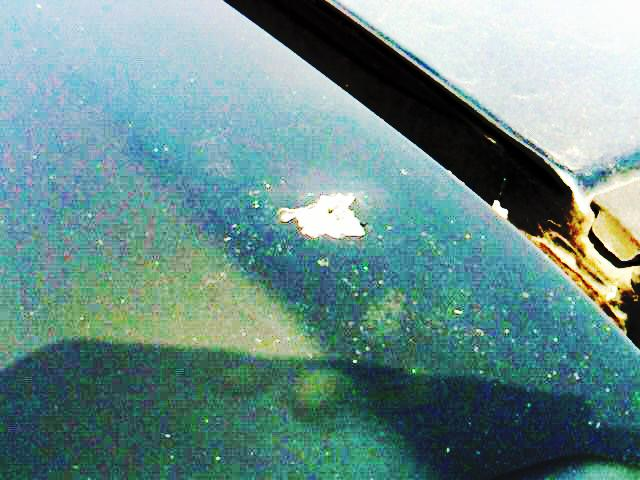Bird Poop: (281, 194, 364, 237)
